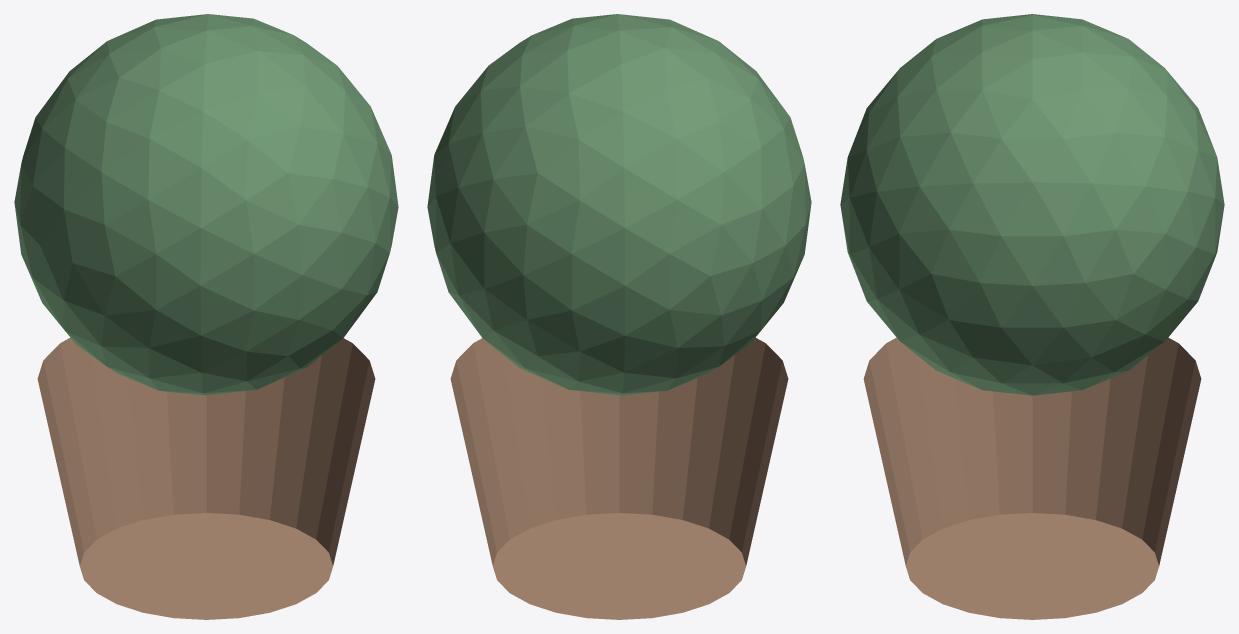
Rendered from cat_plant_potted-medium.glb.
3 renders of one model, left to right at view 1: azimuth 30°, elevation 25°; view 2: azimuth 150°, elevation 25°; view 3: azimuth 270°, elevation 25°, orthographic.
Visible parts, largest first — view 1: geometry_1, geometry_0; view 2: geometry_1, geometry_0; view 3: geometry_1, geometry_0.
Boxes of the visible parts, left/top/right/bottom form: geometry_1: left=14, top=14, right=398, bottom=395; geometry_0: left=37, top=337, right=375, bottom=619; geometry_1: left=427, top=14, right=811, bottom=395; geometry_0: left=450, top=337, right=788, bottom=619; geometry_1: left=840, top=14, right=1224, bottom=395; geometry_0: left=863, top=337, right=1201, bottom=619.
Bounding box in the file's own units: 0.455 × 0.7 × 0.455.
